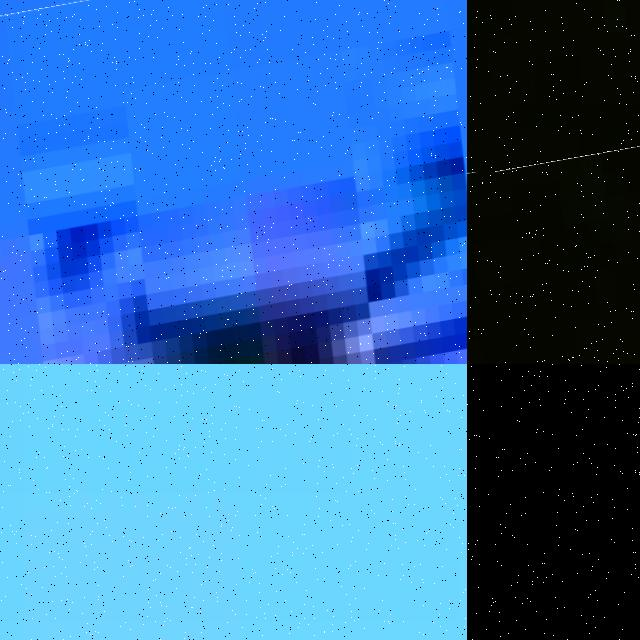drone: (0, 0, 467, 364), (467, 172, 640, 364)
